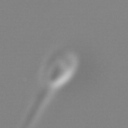normal: (20, 85, 54, 128)
